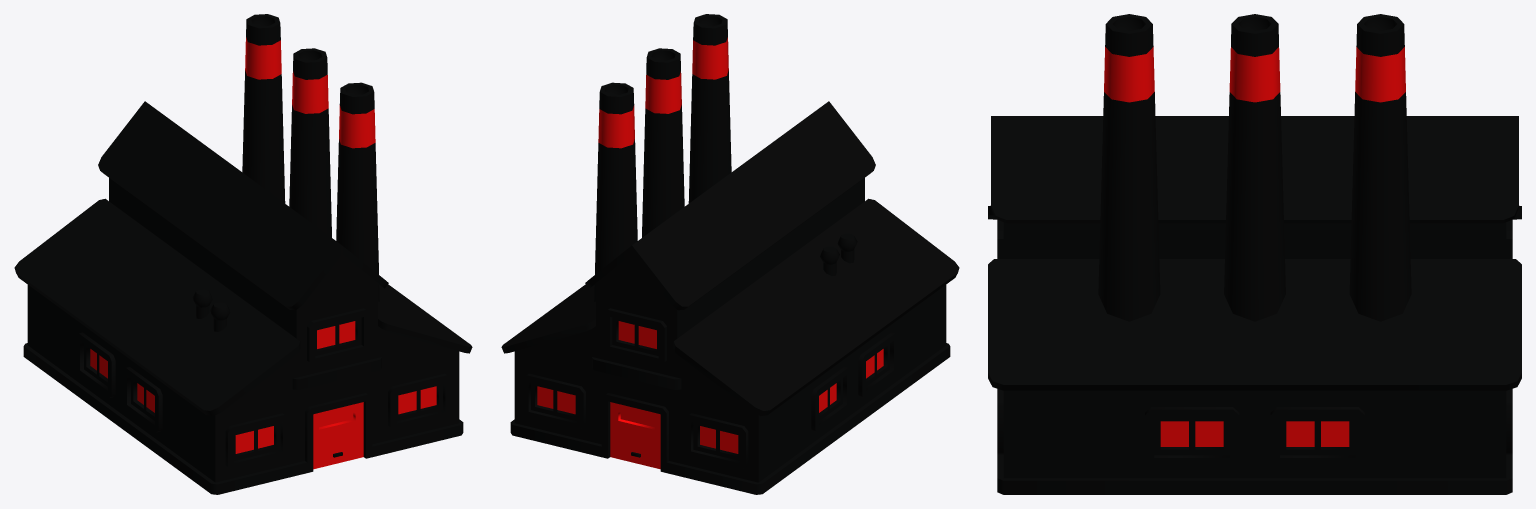
File: building-m.glb
The picture shows the model from 3 angles, left to right: view 1: azimuth 30°, elevation 25°; view 2: azimuth 150°, elevation 25°; view 3: azimuth 270°, elevation 25°; orthographic projection. The views are drawn at different scales.
Visible parts, largest first — view 1: building-m; view 2: building-m; view 3: building-m.
Boxes of the visible parts, <box> form: building-m: <box>14,14,472,494</box>; building-m: <box>501,14,959,494</box>; building-m: <box>988,14,1521,494</box>.
Bounding box in the file's own units: 1.32 × 1.52 × 1.7.
Materials: 1 (1 with a texture image).
